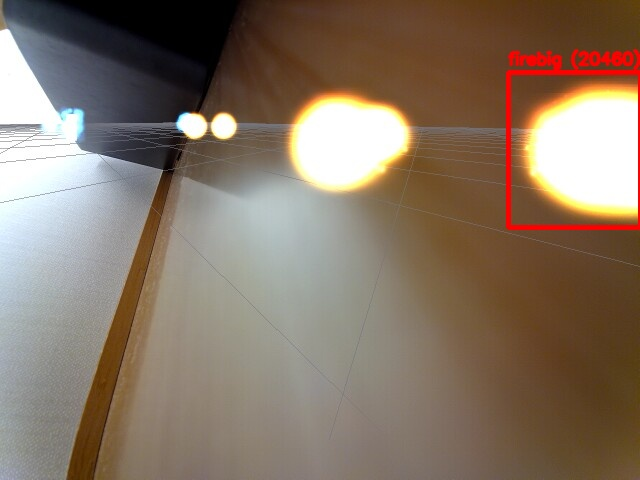firebig: (508, 72, 640, 227)
